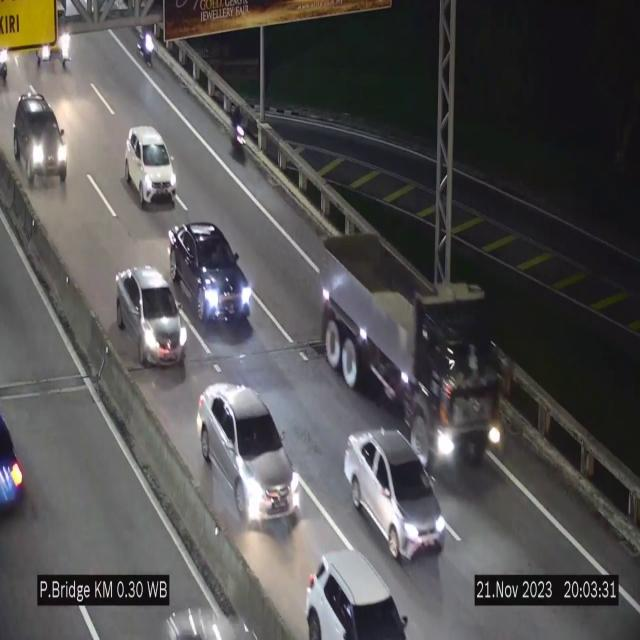Car: (318, 226, 509, 479), (198, 384, 300, 531), (344, 430, 446, 560), (294, 538, 407, 640), (168, 222, 254, 341), (116, 266, 186, 366), (12, 97, 70, 191), (0, 383, 32, 519), (125, 126, 177, 208)
Motorcycle: (223, 94, 251, 174), (138, 5, 156, 72)
